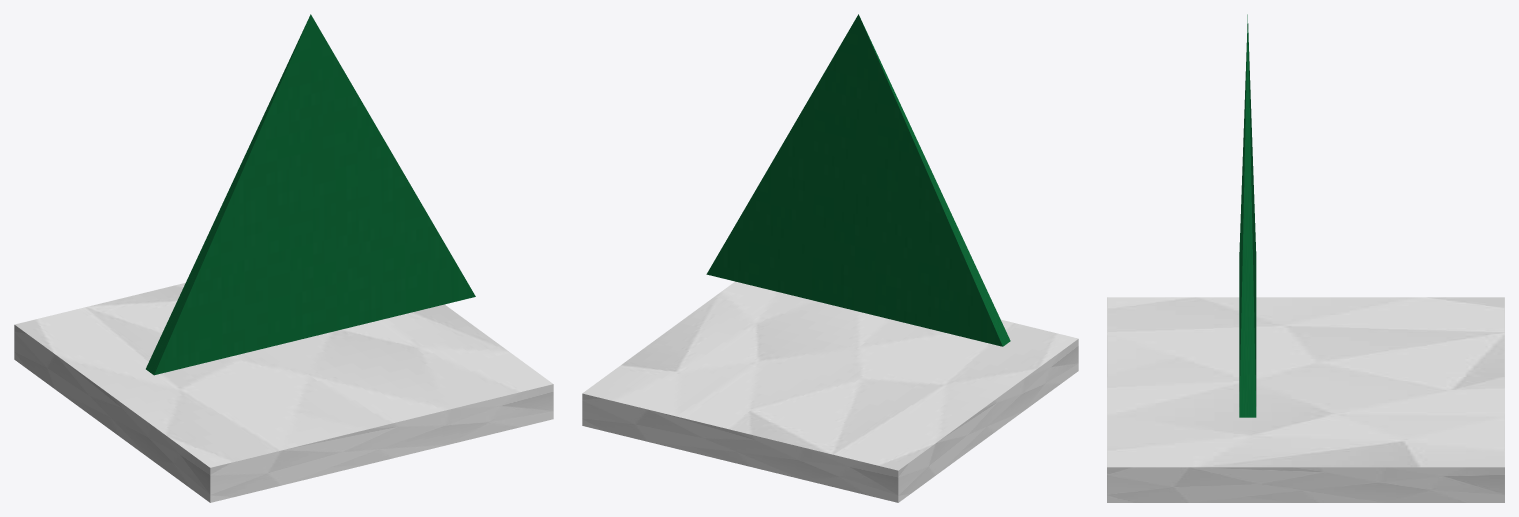
Rendered from TRIANGULO.DAE.
3 renders of one model, left to right at view 1: azimuth 30°, elevation 25°; view 2: azimuth 150°, elevation 25°; view 3: azimuth 270°, elevation 25°, orthographic. The views are drawn at different scales.
Visible parts, largest first — view 1: Box001, Pyramid001; view 2: Box001, Pyramid001; view 3: Box001, Pyramid001.
Boxes of the visible parts, <box> form: Box001: <box>14,283,553,502</box>; Pyramid001: <box>146,14,475,375</box>; Box001: <box>582,281,1078,502</box>; Pyramid001: <box>706,14,1010,346</box>; Box001: <box>1107,297,1504,502</box>; Pyramid001: <box>1239,14,1256,417</box>.
Size of the model in its own units: 138 by 137 by 153.
2 materials, 2 textured.
